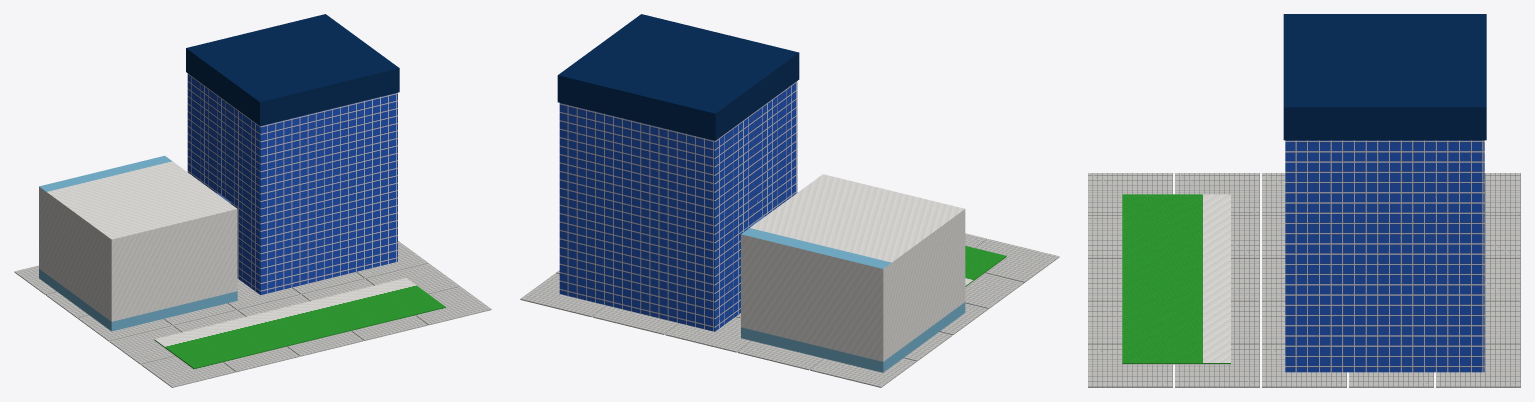
The picture shows the model from 3 angles, left to right: view 1: azimuth 30°, elevation 25°; view 2: azimuth 150°, elevation 25°; view 3: azimuth 270°, elevation 25°; orthographic projection. The views are drawn at different scales.
Parts seen in each view (by area): view 1: 28185_B41_Yeonsu_gu_Office_Complex; view 2: 28185_B41_Yeonsu_gu_Office_Complex; view 3: 28185_B41_Yeonsu_gu_Office_Complex.
Boxes of the visible parts, bbox=[...] form: 28185_B41_Yeonsu_gu_Office_Complex: bbox=[14, 14, 491, 387]; 28185_B41_Yeonsu_gu_Office_Complex: bbox=[520, 14, 1059, 387]; 28185_B41_Yeonsu_gu_Office_Complex: bbox=[1088, 14, 1520, 387].
Size of the model in its own units: 55.8 by 32.5 by 47.8.
1 material, 1 textured.
